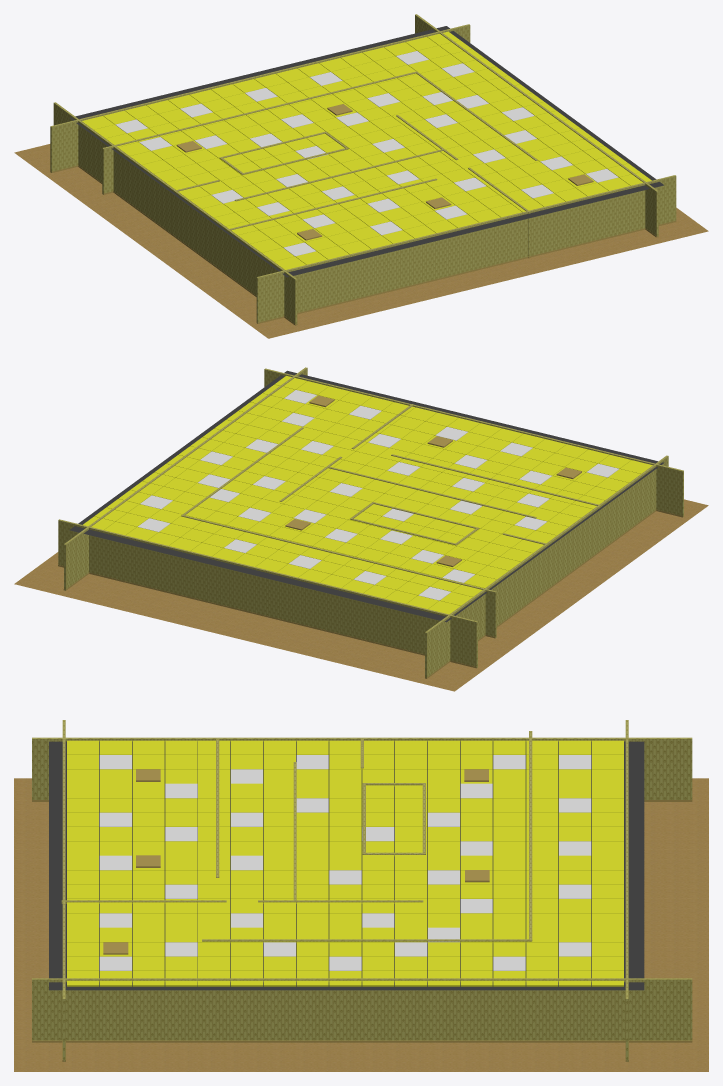
3 views of the same model, one above another, from view 1: azimuth 30°, elevation 25°; view 2: azimuth 150°, elevation 25°; view 3: azimuth 270°, elevation 25° (orthographic). The views are drawn at different scales.
Visible parts, largest first — view 1: Ceiling Tiles, wall, Carpet, wall.004, Ceiling Panel Frame, wall.013, wall.002, wall.014, wall.003, wall.001; view 2: Ceiling Tiles, Carpet, wall.013, wall.004, Ceiling Panel Frame, wall, wall.002, wall.014, wall.003, wall.001; view 3: Ceiling Tiles, Carpet, wall.002, Ceiling Panel Frame, wall.004, wall.013, wall, wall.012, wall.014, wall.003, wall.001.
Part boxes in pixels (x1,y1,x2,y2): Ceiling Tiles: (82, 31, 651, 269); wall: (256, 175, 676, 323); Carpet: (14, 144, 708, 338); wall.004: (53, 102, 297, 325); Ceiling Panel Frame: (70, 26, 663, 277); wall.013: (50, 24, 470, 172); wall.002: (415, 14, 658, 237); wall.014: (102, 72, 416, 194); wall.003: (227, 178, 437, 274); wall.001: (234, 149, 443, 201); Ceiling Tiles: (83, 376, 652, 614); Carpet: (14, 499, 708, 691); wall.013: (58, 519, 477, 668); wall.004: (425, 455, 668, 678); Ceiling Panel Frame: (69, 370, 664, 622); wall: (264, 368, 683, 517); wall.002: (63, 367, 307, 590); wall.014: (181, 515, 496, 638); wall.003: (391, 454, 601, 550); wall.001: (328, 466, 536, 518); Ceiling Tiles: (67, 740, 623, 986); Carpet: (14, 778, 708, 1071); wall.002: (32, 978, 692, 1042); Ceiling Panel Frame: (49, 741, 644, 990); wall.004: (32, 737, 692, 801); wall.013: (625, 720, 628, 1061); wall: (62, 720, 65, 1061); wall.012: (202, 939, 531, 943); wall.014: (529, 731, 532, 940); wall.003: (216, 739, 219, 877); wall.001: (293, 762, 296, 900).
Bounding box in the file's own units: 2000 × 207 × 2000.
Materials: 6 (2 with a texture image).
